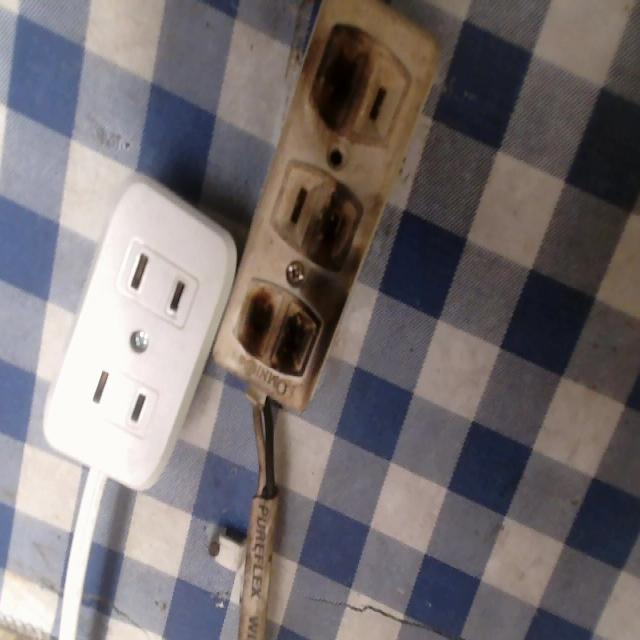-: (235, 286, 321, 398), (311, 16, 371, 141), (313, 182, 369, 282)
